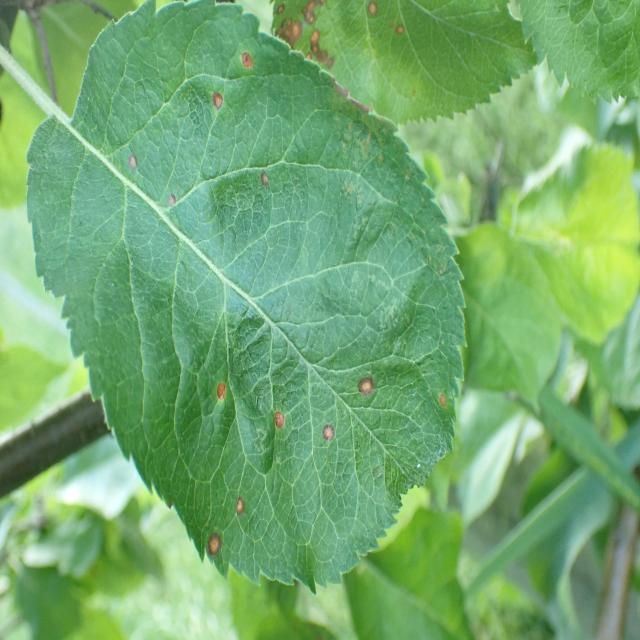frog-eye-leaf-spot: (25, 3, 465, 596), (265, 0, 539, 129), (517, 0, 640, 107)
